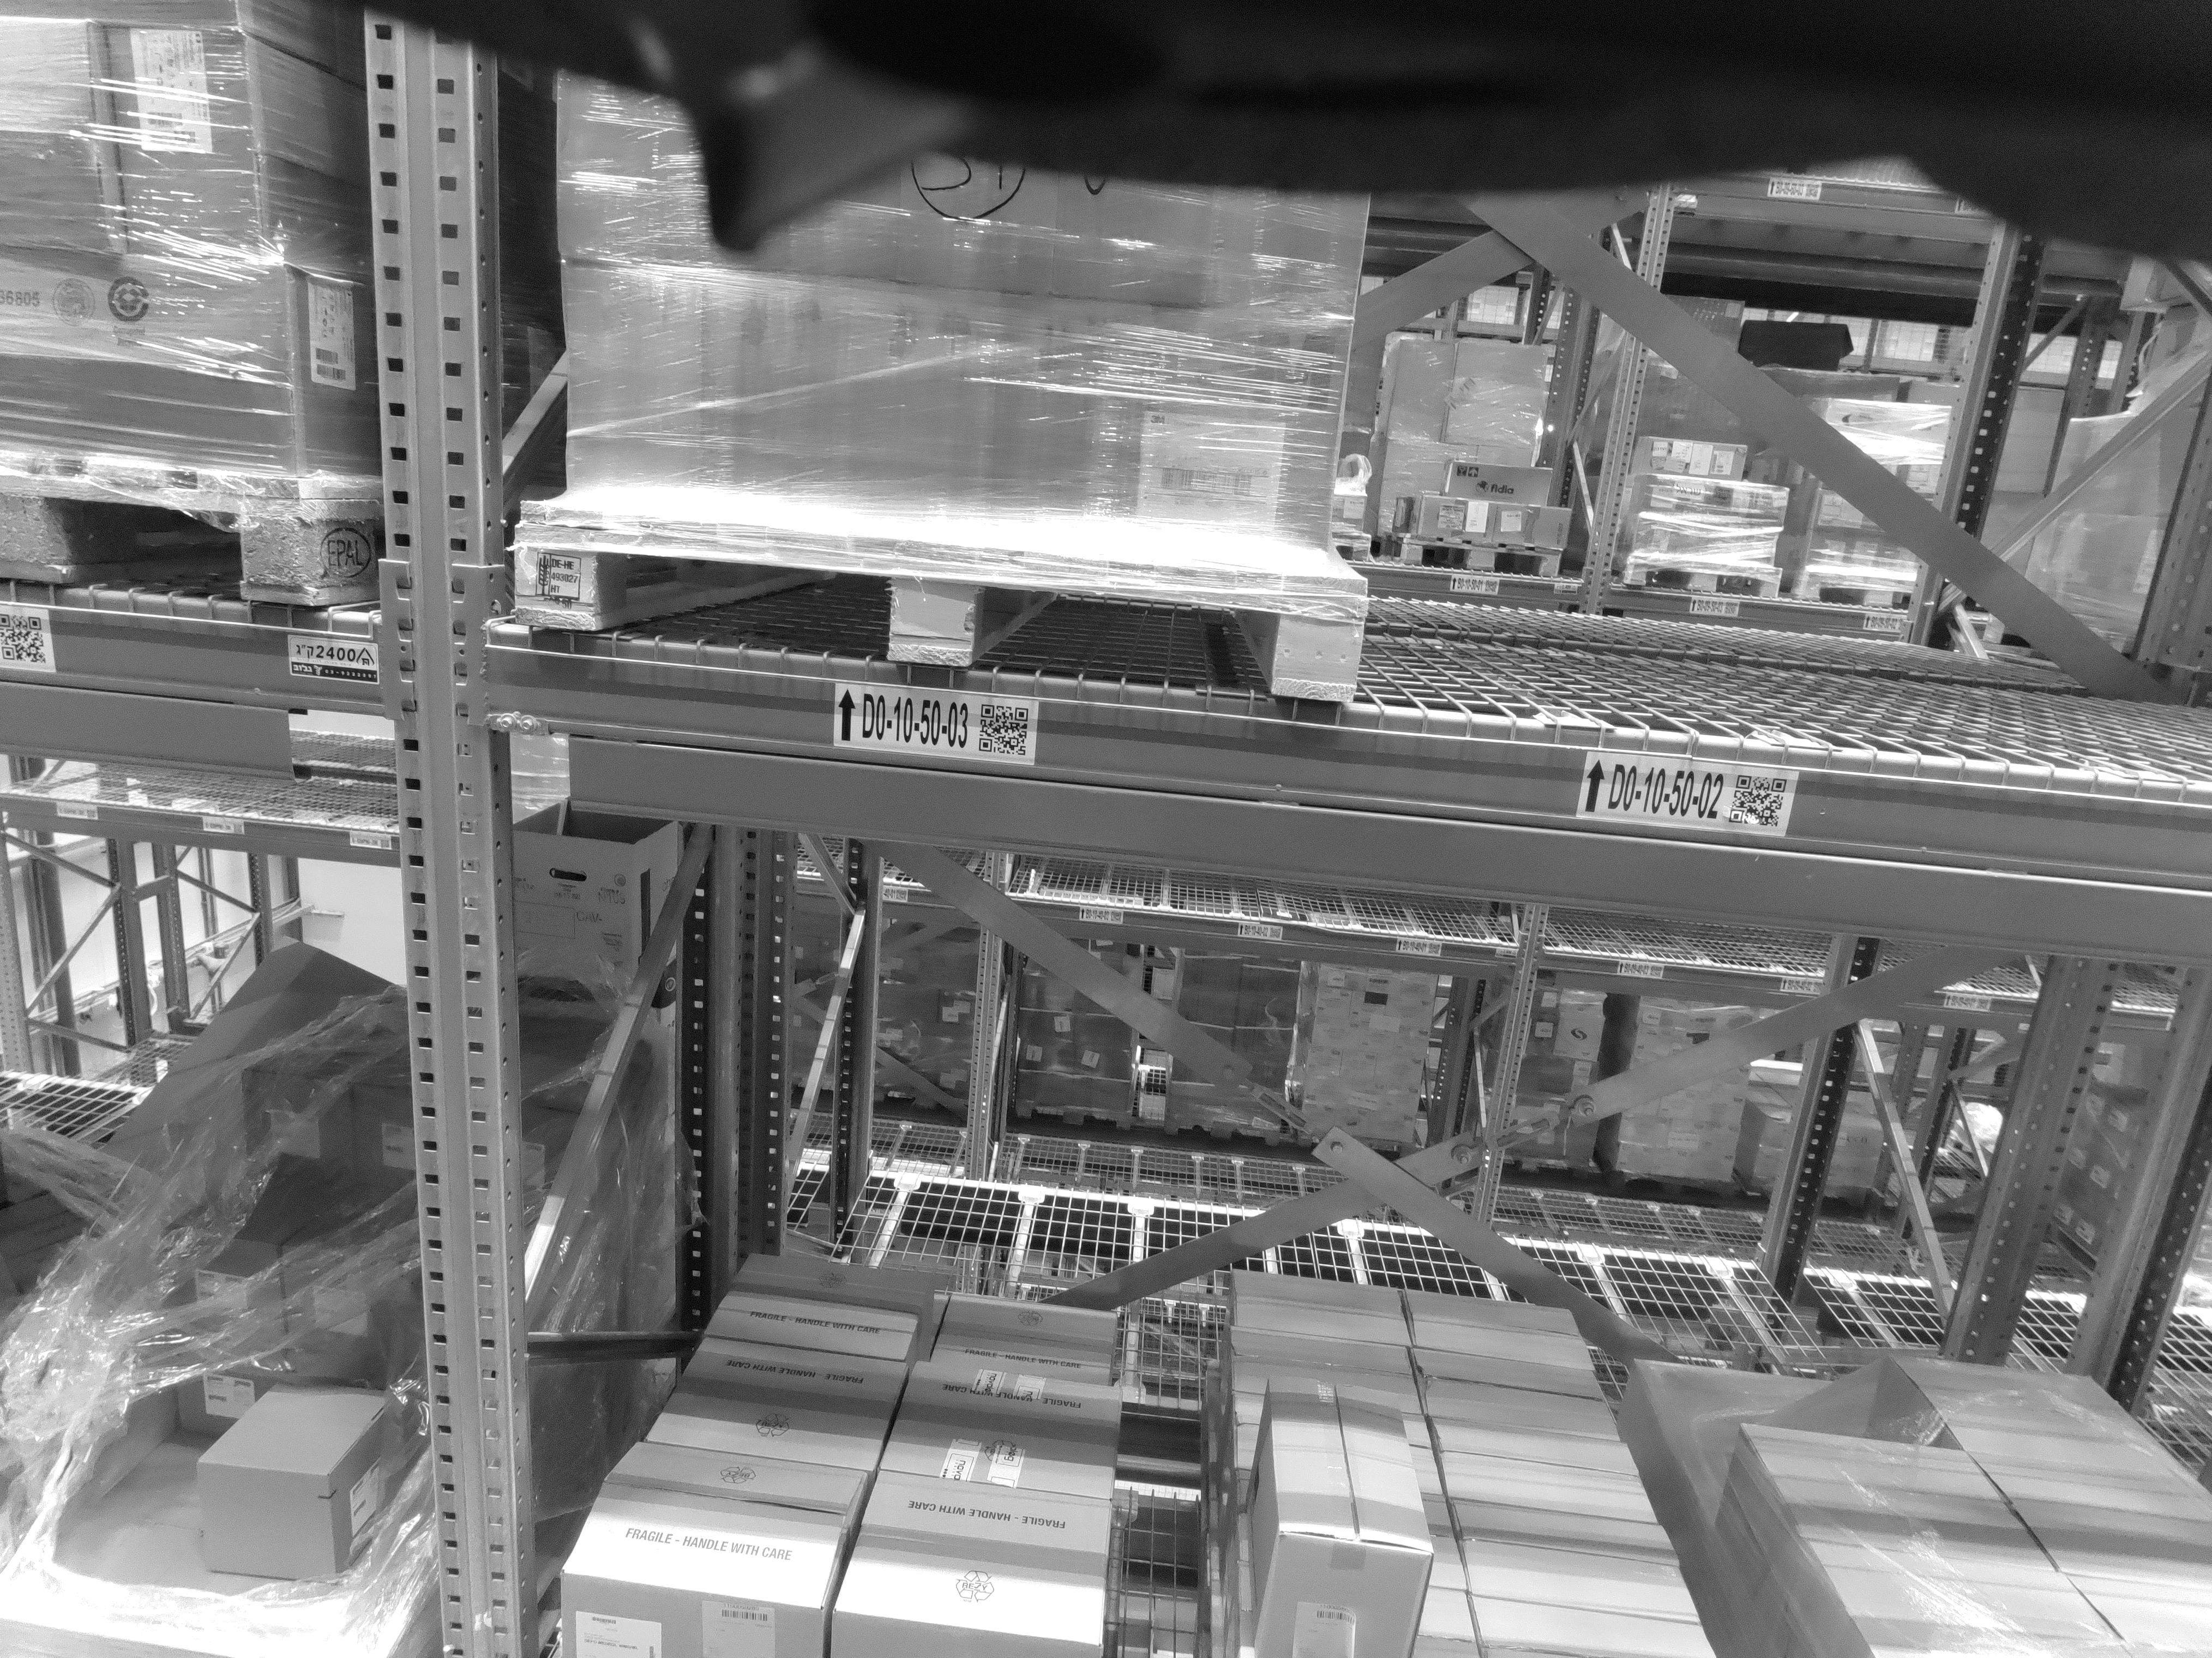empty-shelf: (1576, 232, 1831, 737), (2012, 273, 2212, 738)
